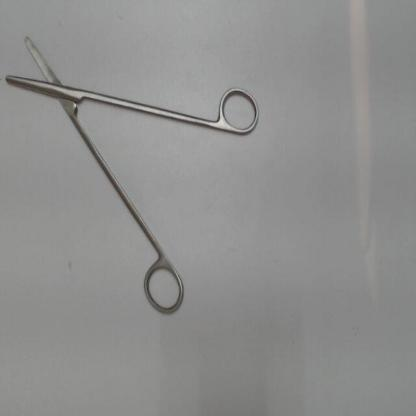9 Metzenbaum Scissors: (2, 27, 263, 322)
